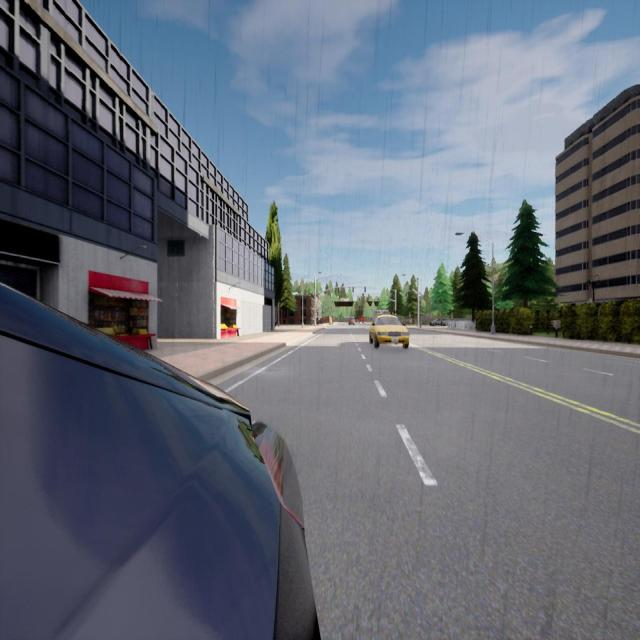Vehicle: (0, 284, 318, 638), (369, 315, 409, 349), (372, 309, 390, 323), (430, 318, 447, 327), (348, 316, 356, 325), (358, 316, 364, 324)
traffic_light: (364, 287, 366, 292), (395, 310, 397, 314), (378, 297, 379, 302), (338, 288, 339, 292), (353, 288, 354, 292), (359, 298, 360, 301), (368, 297, 368, 301)
